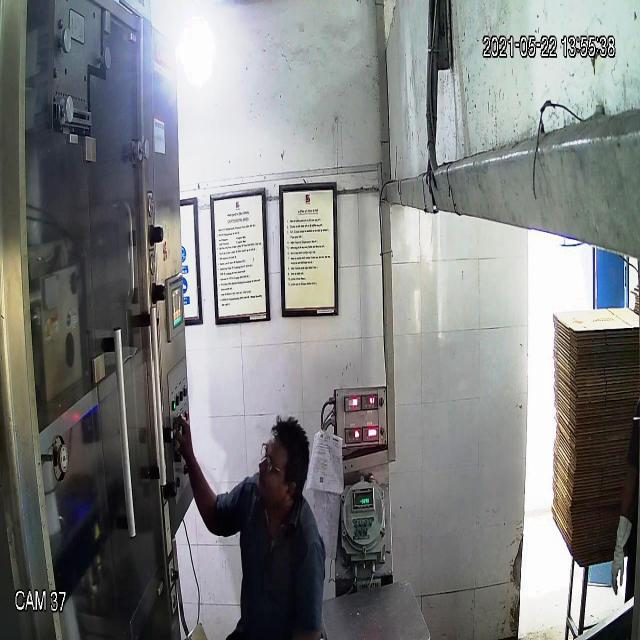glasses: (257, 437, 298, 487)
